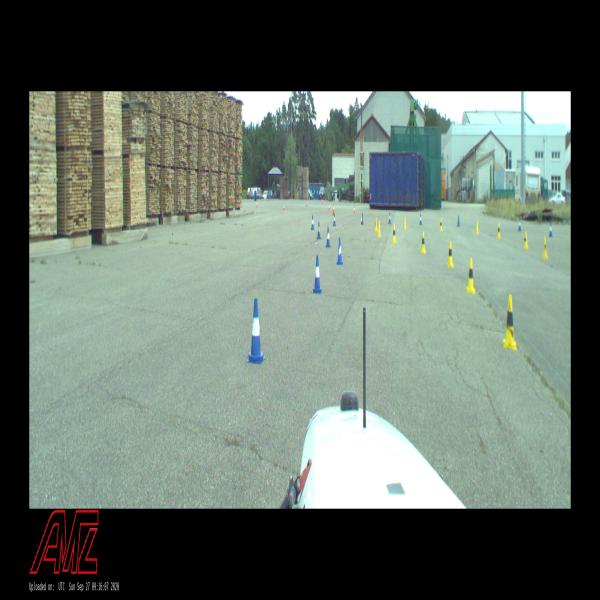blue_cone: (247, 298, 265, 365), (312, 255, 322, 294), (336, 237, 343, 265), (326, 226, 330, 248), (317, 221, 321, 239), (549, 221, 553, 237), (518, 216, 522, 232), (311, 215, 314, 230), (361, 212, 364, 225), (333, 214, 336, 227), (388, 212, 391, 224), (457, 215, 460, 227), (420, 213, 422, 225)
orange_cone: (332, 204, 335, 215), (353, 205, 356, 214), (283, 202, 285, 211), (256, 200, 258, 208), (328, 202, 330, 210), (321, 198, 323, 204), (335, 199, 337, 205), (306, 200, 307, 208)
yellow_cone: (502, 294, 517, 350), (466, 258, 476, 294), (446, 241, 454, 267), (542, 235, 548, 259), (421, 231, 426, 254), (524, 230, 528, 249), (392, 224, 396, 243), (497, 222, 501, 240), (377, 220, 381, 238), (374, 216, 378, 232), (475, 220, 479, 234), (403, 216, 407, 230), (439, 218, 443, 231)
